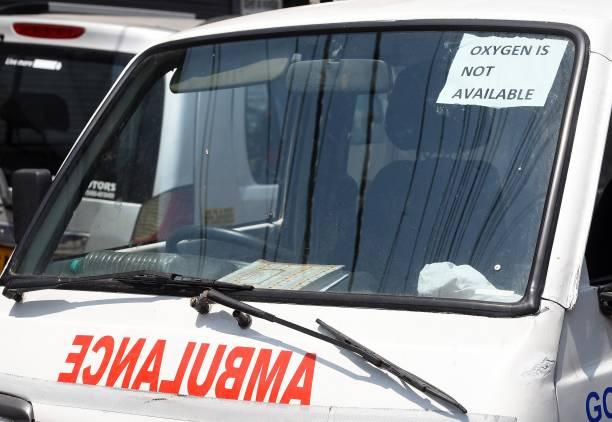ER: (1, 1, 612, 422)
